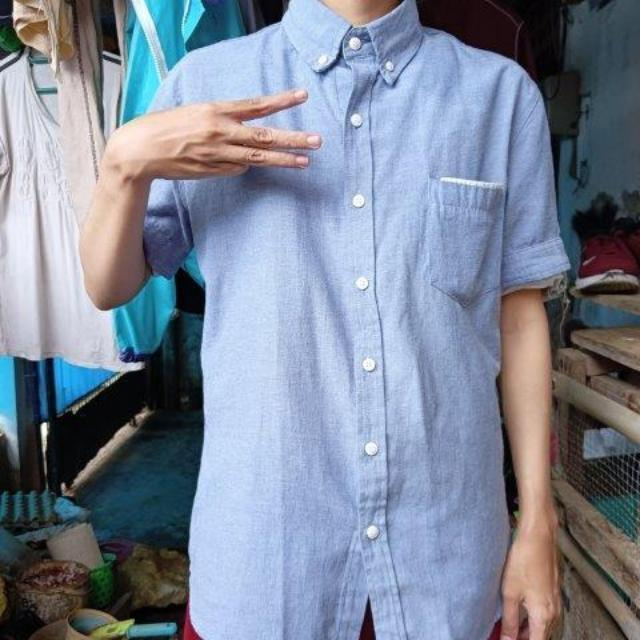E: (106, 76, 334, 194)
